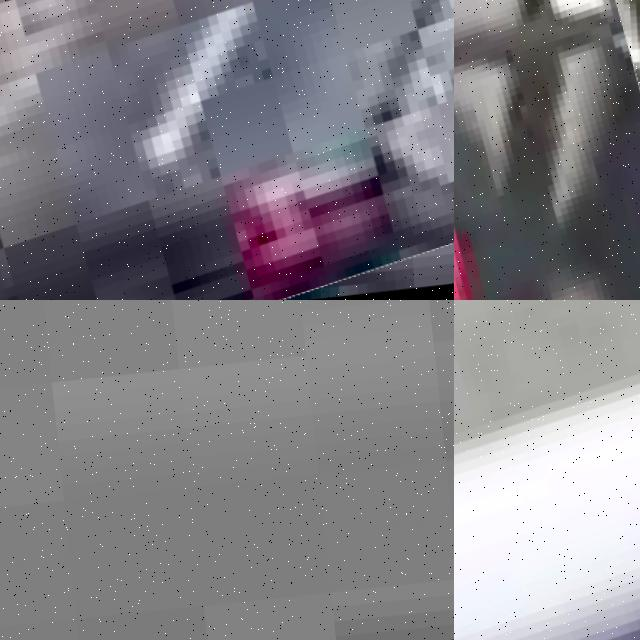drone: (0, 0, 454, 300), (454, 300, 640, 640), (454, 0, 640, 300)
